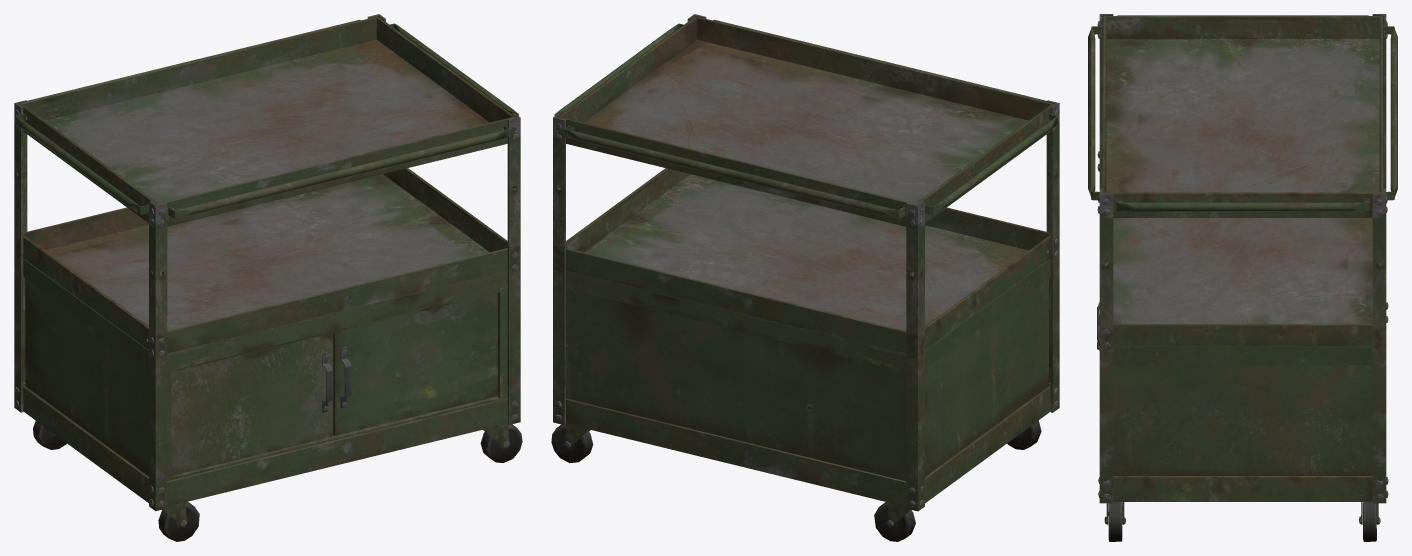
The model's file is industrial_storage_cart.glb.
3 renders of one model, left to right at view 1: azimuth 30°, elevation 25°; view 2: azimuth 150°, elevation 25°; view 3: azimuth 270°, elevation 25°, orthographic.
Parts seen in each view (by area): view 1: industrial_storage_cart; view 2: industrial_storage_cart; view 3: industrial_storage_cart.
Part boxes in pixels (x1=…): industrial_storage_cart: x1=14, y1=14, x2=522, y2=541; industrial_storage_cart: x1=551, y1=14, x2=1059, y2=541; industrial_storage_cart: x1=1088, y1=14, x2=1397, y2=541.
Bounding box in the file's own units: 1.6 × 1.38 × 1.1.
1 material, 1 textured.
